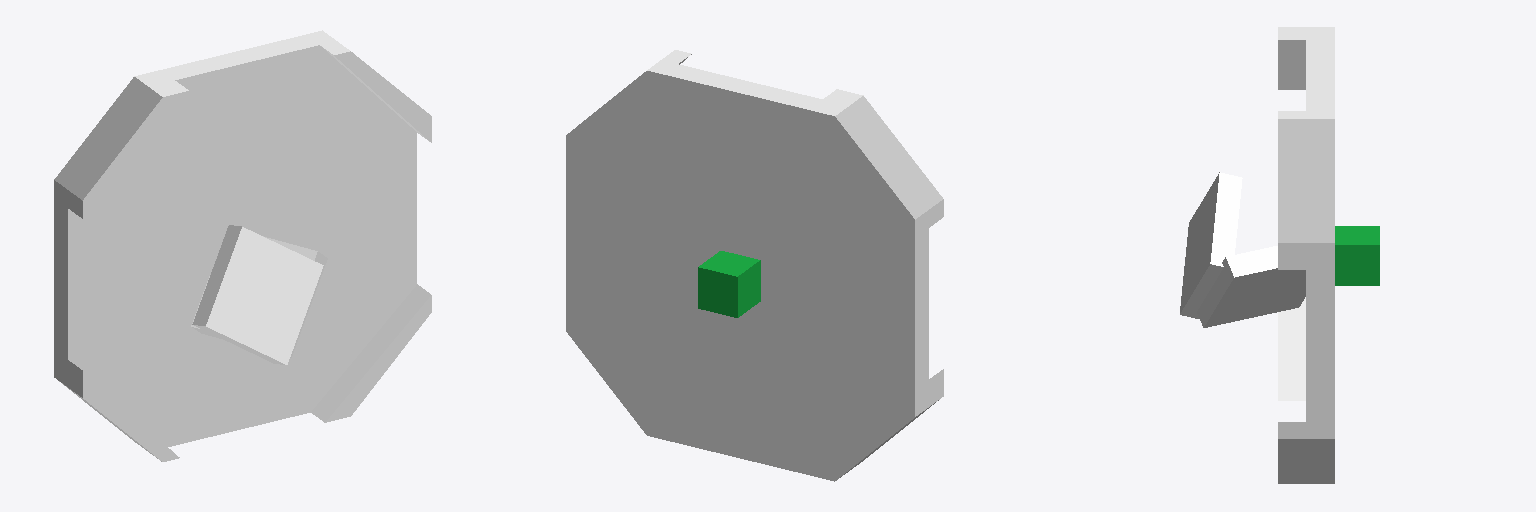
File: enemy_v2.obj
The picture shows the model from 3 angles: view 1: azimuth 30°, elevation 25°; view 2: azimuth 150°, elevation 25°; view 3: azimuth 270°, elevation 25°; orthographic projection.
Visible parts, largest first — view 1: Object.1, Object.3, Object.2; view 2: Object.1, Object.4; view 3: Object.1, Object.2, Object.3, Object.4.
Boxes of the visible parts, x1=… form: Object.1: x1=54, y1=30, x2=431, y2=461; Object.3: x1=192, y1=225, x2=323, y2=364; Object.2: x1=191, y1=236, x2=327, y2=357; Object.1: x1=566, y1=50, x2=943, y2=481; Object.4: x1=698, y1=251, x2=760, y2=317; Object.1: x1=1278, y1=27, x2=1334, y2=483; Object.2: x1=1197, y1=246, x2=1305, y2=327; Object.3: x1=1180, y1=172, x2=1242, y2=318; Object.4: x1=1335, y1=226, x2=1379, y2=285.
Size of the model in its own units: 40 by 40 by 19.93.